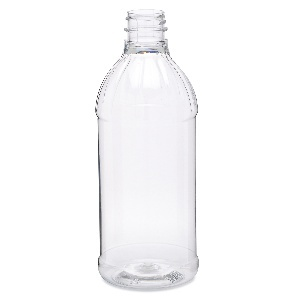emptybottle: (98, 9, 197, 292)
